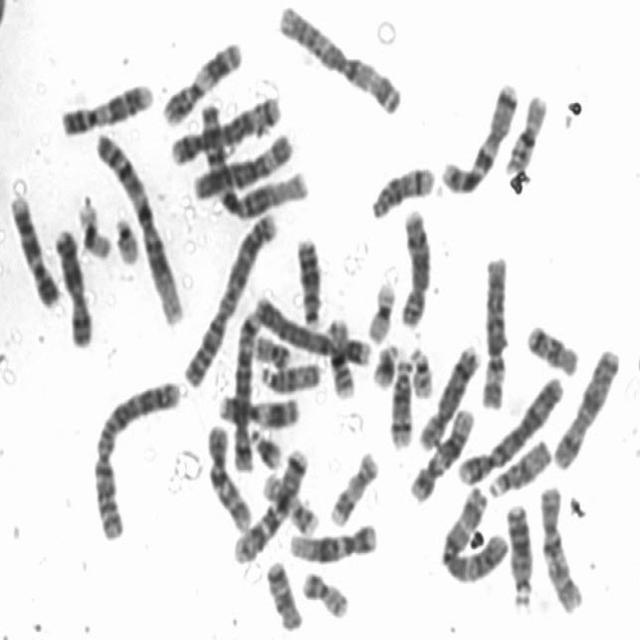A1: (91, 126, 186, 328), (193, 95, 311, 221)
A2: (179, 202, 281, 390), (90, 375, 183, 543)
A3: (273, 0, 405, 116), (436, 478, 513, 586)
B4: (453, 368, 567, 489), (250, 289, 372, 368)
B5: (165, 90, 284, 166), (228, 303, 266, 474)
C10: (536, 481, 586, 616), (202, 415, 257, 534)
C11: (156, 34, 245, 128), (213, 387, 303, 430)
C12: (407, 400, 477, 506), (286, 517, 381, 565)
C6: (189, 126, 297, 203), (476, 250, 509, 411)
C7: (436, 75, 521, 195), (228, 442, 310, 565)
C8: (415, 338, 483, 452), (396, 202, 433, 328)
C9: (5, 189, 61, 309), (59, 78, 155, 138)
D13: (502, 496, 536, 610), (292, 230, 326, 328)
D14: (366, 158, 437, 221), (386, 352, 414, 451)
D15: (483, 429, 554, 498), (254, 354, 323, 394)
E16: (502, 87, 550, 175), (322, 312, 358, 400)
E17: (325, 446, 380, 529), (259, 467, 322, 537)
E18: (523, 316, 580, 378), (260, 554, 304, 634)
F19: (361, 273, 398, 347), (74, 193, 114, 261)
F20: (298, 566, 351, 622), (250, 328, 294, 371)
G21: (246, 422, 286, 472), (367, 337, 400, 391)
G22: (108, 206, 144, 267), (405, 340, 436, 400)
X: (550, 342, 622, 472), (50, 222, 96, 351)
